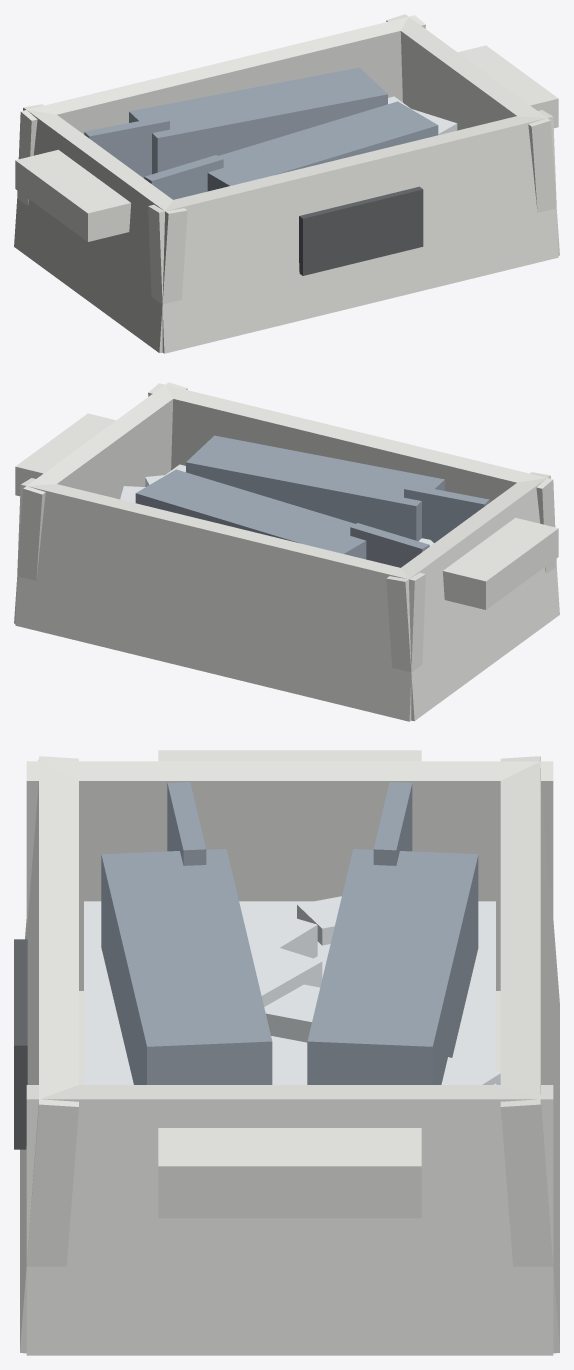
Rendered from fish-market-and-trawler-quay-fish-market-and-trawler-q-ca93f7d5.glb.
The picture shows the model from 3 angles, top to bottom: view 1: azimuth 30°, elevation 25°; view 2: azimuth 150°, elevation 25°; view 3: azimuth 270°, elevation 25°; orthographic projection. The views are drawn at different scales.
Visible parts, largest first — view 1: fish-market-and-trawler-quay-fish-box; view 2: fish-market-and-trawler-quay-fish-box; view 3: fish-market-and-trawler-quay-fish-box.
Boxes of the visible parts, left/top/right/bottom form: fish-market-and-trawler-quay-fish-box: left=14, top=14, right=559, bottom=353; fish-market-and-trawler-quay-fish-box: left=14, top=382, right=559, bottom=721; fish-market-and-trawler-quay-fish-box: left=14, top=750, right=559, bottom=1355.
Bounding box in the file's own units: 0.86 × 0.2419 × 0.4769.
